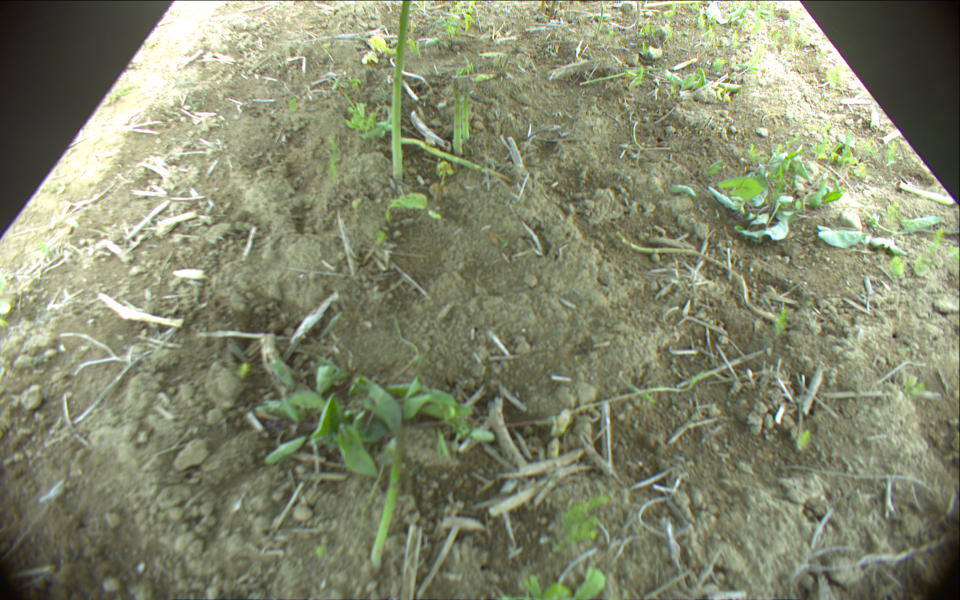aspa: (622, 236, 792, 329), (400, 137, 516, 182), (371, 423, 404, 569), (392, 1, 411, 180), (579, 68, 658, 86), (452, 77, 461, 155), (462, 84, 468, 139), (597, 1, 603, 35)
